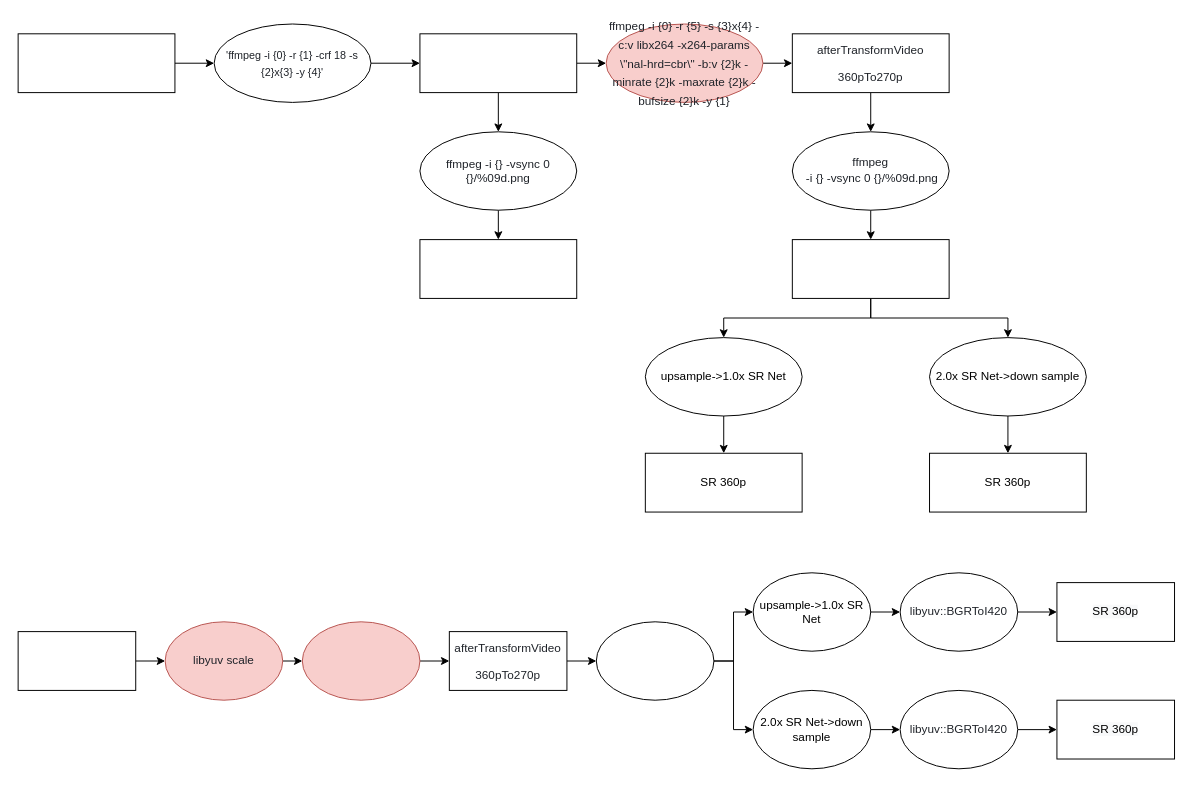
Some shapes in this 1192 by 786 pixel diagram are drawn without their labels. Each missing label, with the centre of its shape:
"afterTransformImage 360pTo270" belongs at pixel 870 268.
"beforeTransformImage 360p" belongs at pixel 498 268.
"beforeTransformVideo 360p" belongs at pixel 498 63.
"libyuv::I420ToBGR" belongs at pixel 654 660.
"openh264 OR 硬件" belongs at pixel 360 660.
"RTCdemo 采集 anyResolutionVideo" belongs at pixel 76 660.
"线上拉取 anyResolutionVideo" belongs at pixel 96 63.
